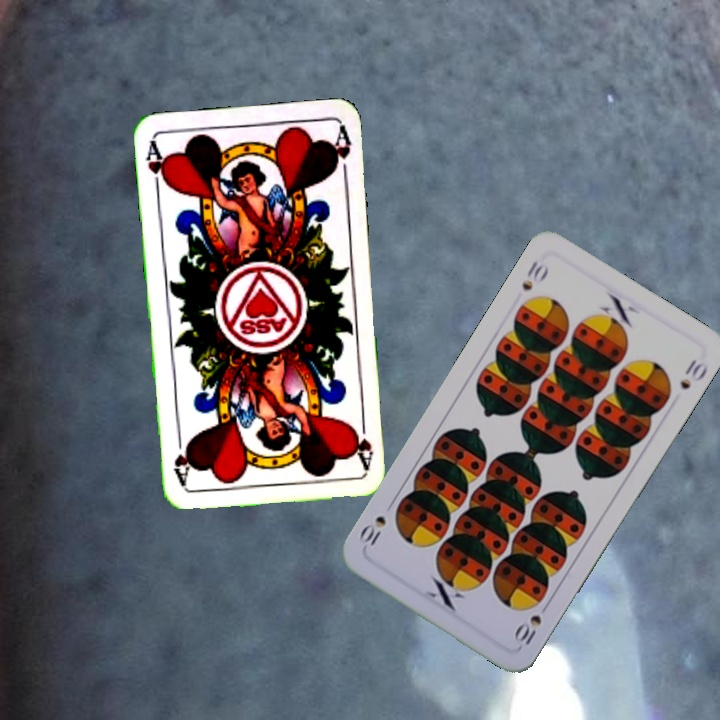HA: (141, 137, 171, 196), (349, 412, 376, 471)
S10: (510, 597, 553, 651), (517, 256, 551, 294)
